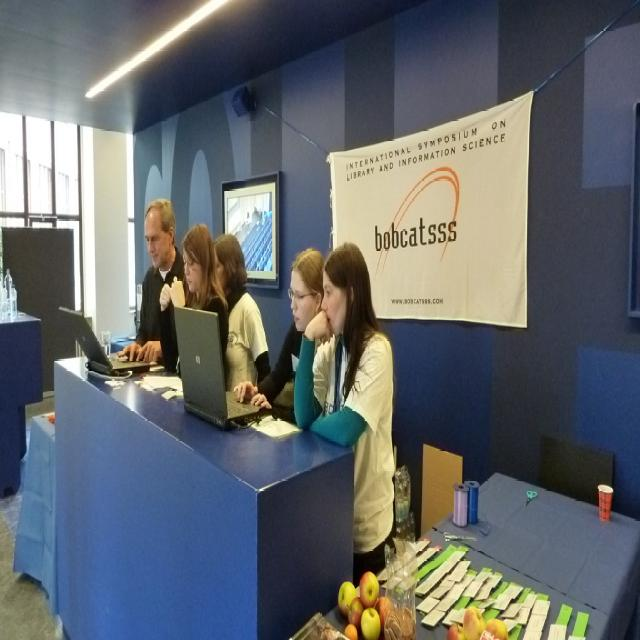chair: (538, 434, 614, 504), (420, 442, 464, 534)
desk: (30, 328, 354, 628)
laptop: (173, 306, 269, 430), (59, 303, 152, 377)
person: (291, 242, 396, 578), (237, 246, 327, 424), (115, 198, 187, 364), (161, 223, 231, 377), (212, 232, 272, 390)
